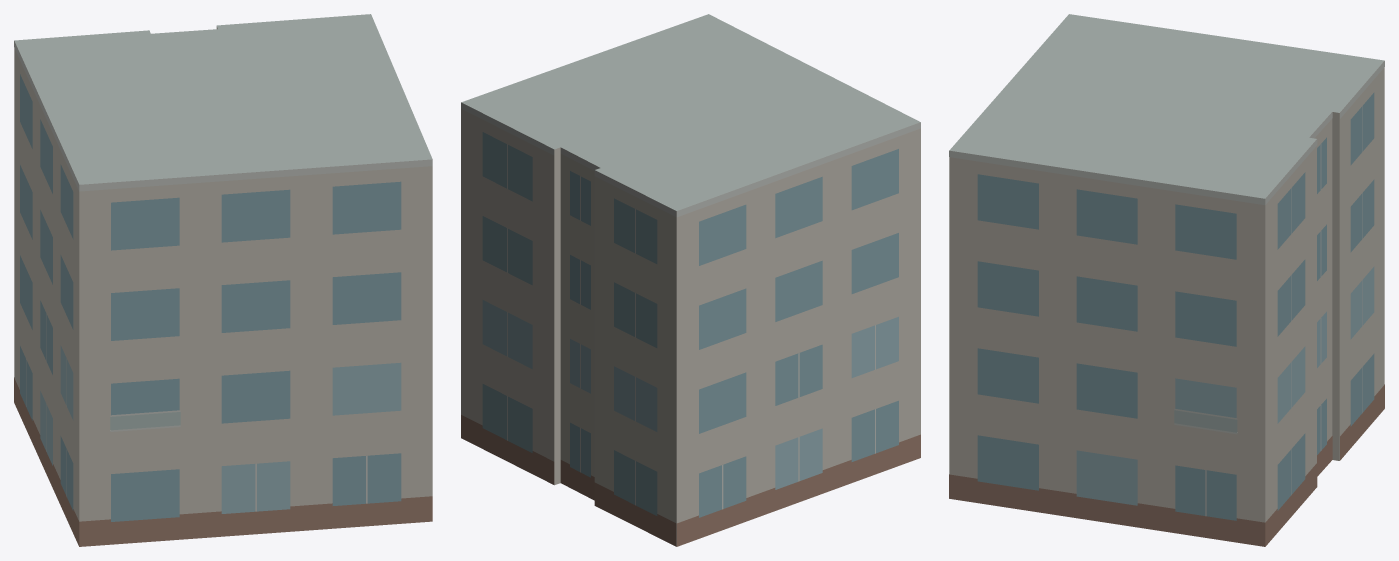
Rendered from survey-upis-32976192.glb.
3 renders of one model, left to right at view 1: azimuth 30°, elevation 25°; view 2: azimuth 150°, elevation 25°; view 3: azimuth 270°, elevation 25°, orthographic. The views are drawn at different scales.
Parts seen in each view (by area): view 1: survey-upis-32976192.tmp; view 2: survey-upis-32976192.tmp; view 3: survey-upis-32976192.tmp.
Part boxes in pixels (<box>): survey-upis-32976192.tmp: <box>14,14,432,546</box>; survey-upis-32976192.tmp: <box>461,14,920,546</box>; survey-upis-32976192.tmp: <box>949,14,1384,546</box>.
Size of the model in its own units: 14.92 by 13.1 by 14.87.
